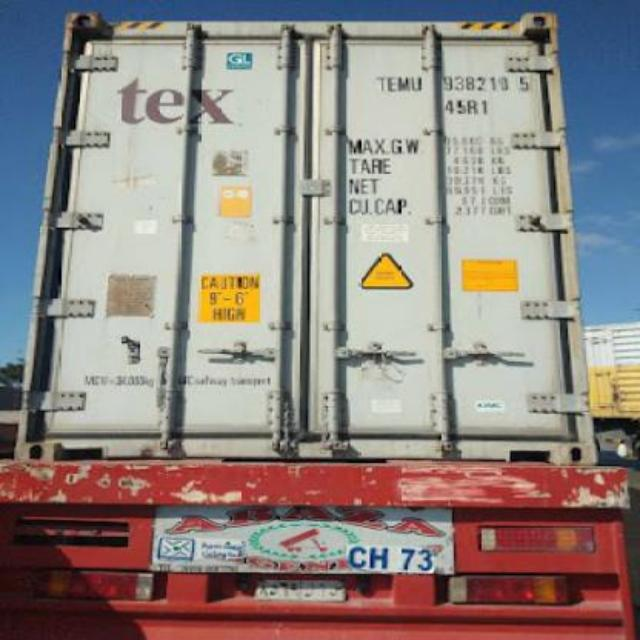0: (498, 60, 510, 96)
1: (490, 68, 502, 98)
2: (474, 68, 488, 95)
3: (454, 69, 464, 95)
5: (518, 74, 530, 95)
8: (464, 69, 476, 95)
9: (441, 69, 454, 95)
E: (386, 74, 398, 96)
M: (396, 73, 412, 94)
T: (372, 72, 386, 96)
U: (408, 72, 424, 98)
